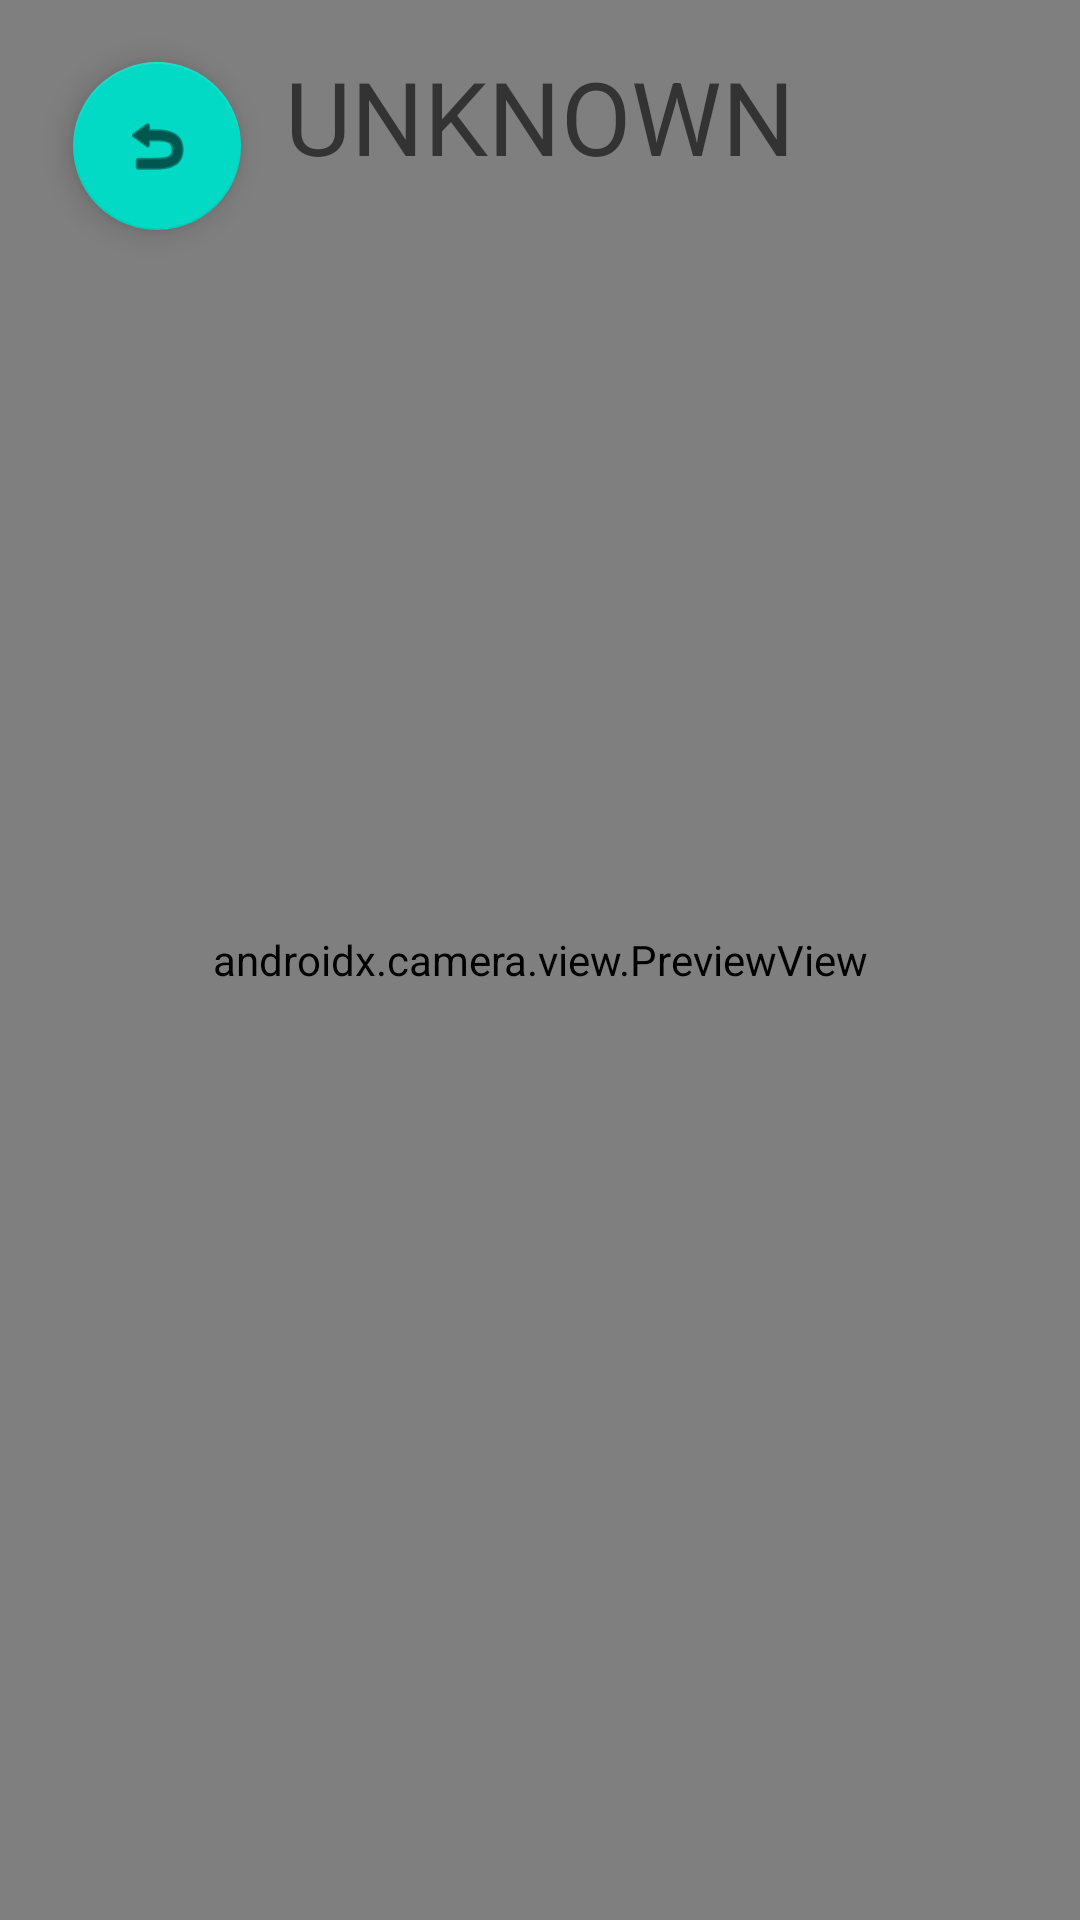

Named icons in this screenshot (1080w x 1920h) and their bounding boxes, detection(x1, y1, x2, y2):
revert: detection(73, 62, 241, 230)
